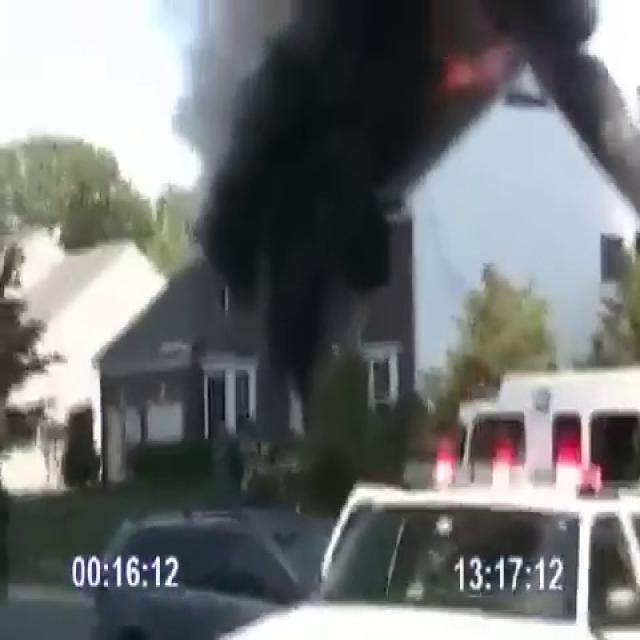Smoke: (172, 0, 594, 308)
